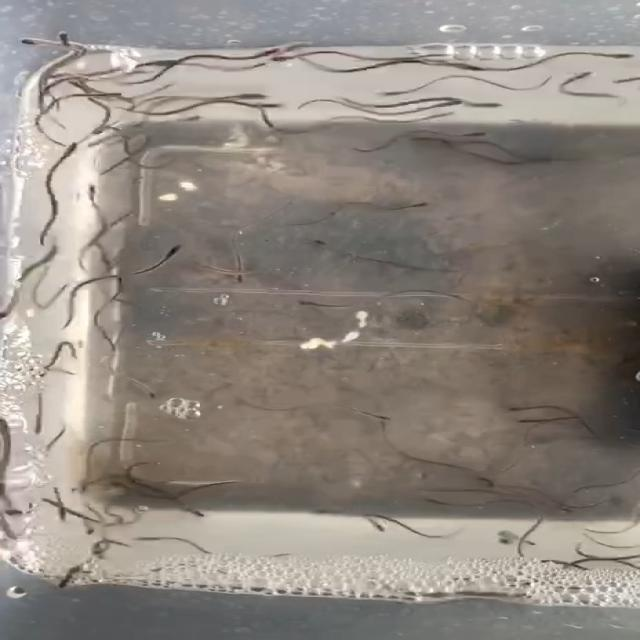inactive_glass_eel: (47, 566, 98, 599), (38, 26, 104, 49), (292, 226, 350, 252), (270, 52, 325, 76), (348, 408, 408, 430), (238, 99, 306, 118), (159, 243, 202, 273), (11, 30, 63, 54), (596, 44, 640, 68), (164, 504, 216, 523), (222, 85, 278, 102), (362, 81, 412, 100), (392, 194, 431, 217), (308, 502, 354, 520), (222, 261, 255, 285), (171, 109, 203, 133), (0, 504, 41, 522), (250, 46, 297, 61), (571, 65, 603, 87), (445, 57, 482, 76), (294, 294, 328, 314), (402, 492, 434, 512), (132, 382, 162, 403), (431, 96, 465, 114), (82, 181, 118, 198), (115, 211, 142, 233), (131, 531, 167, 547), (54, 138, 80, 160), (476, 96, 506, 115), (463, 470, 493, 488), (459, 119, 484, 138), (34, 240, 59, 258), (401, 134, 443, 144)
